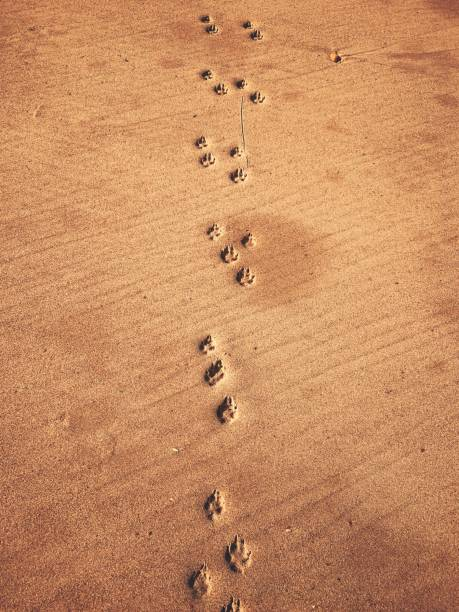animal_footprint: (225, 535, 251, 572), (189, 563, 212, 597), (204, 489, 224, 519), (204, 359, 224, 385), (217, 396, 237, 422), (236, 267, 254, 286), (220, 244, 238, 263), (221, 596, 243, 611), (199, 335, 216, 354), (207, 223, 223, 239), (241, 231, 255, 247), (231, 168, 246, 182), (200, 152, 215, 166), (250, 91, 265, 103), (214, 83, 228, 94), (329, 51, 342, 62), (201, 69, 214, 80), (250, 29, 263, 40), (206, 24, 220, 34), (230, 146, 242, 157), (196, 136, 207, 148), (237, 78, 247, 88), (200, 15, 211, 23), (243, 20, 253, 28)
